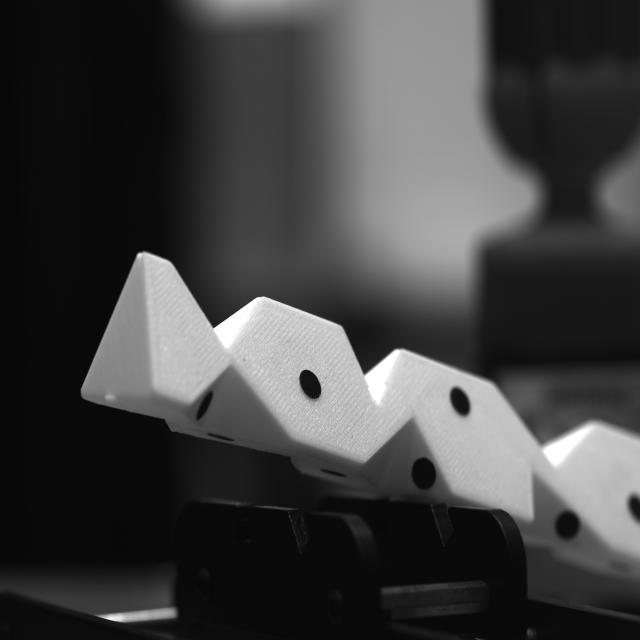circle point: (412, 457, 436, 490), (299, 369, 322, 399), (450, 388, 471, 417)
